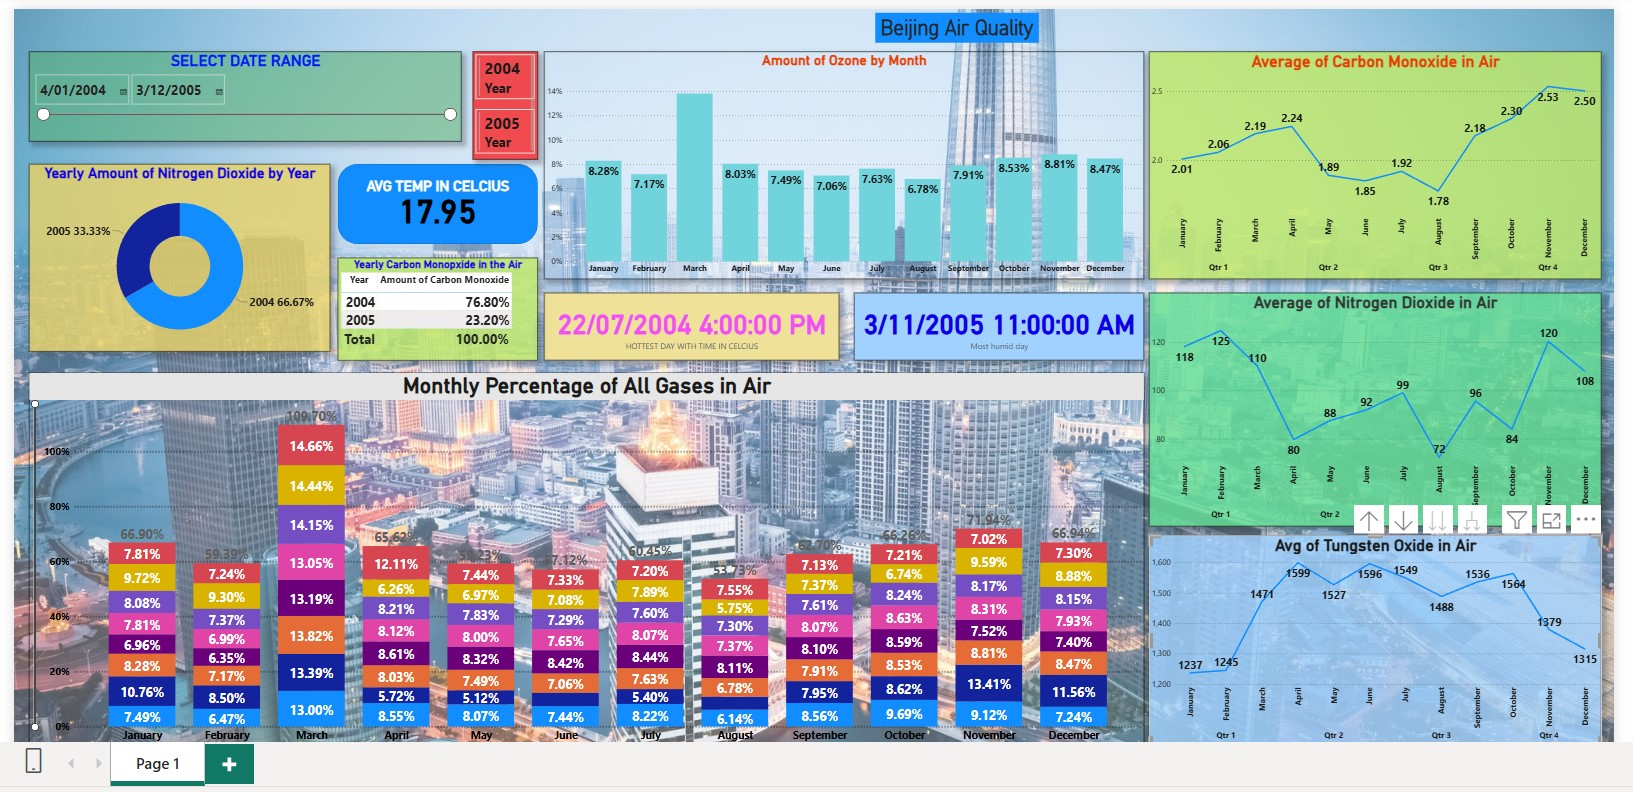

The dashboard page shown, as its layout file describes it:
{"tool":"powerbi","page":{"name":"Page 1","canvas":[3200,1500],"ordinal":0},"visuals":[{"type":"slicer","title":"SELECT DATE RANGE","fields":{"Values":["AirQualityUCI.Date and Time"]},"box":[30,85,865,180],"z":0},{"type":"card","fields":{"Values":["AirQualityUCI.Most humid day"]},"box":[1680,567.5,580,135],"z":1000},{"type":"card","fields":{"Values":["AirQualityUCI.Hottest day with time in celcius"]},"box":[1060,567.5,590,135],"z":2000},{"type":"shape","box":[647.5,310,400,160],"z":3000},{"type":"card","title":"AVG TEMP IN CELCIUS","fields":{"Values":["AirQualityUCI.Avereage temp in celcius"]},"box":[690,337.5,315,105],"z":4000},{"type":"columnChart","title":"Monthly Percentage of All Gases in Air","fields":{"Category":["AirQualityUCI.Date and Time.Variation.Date Hierarchy.Month"],"Y":["Sum(AirQualityUCI.C6H6(GT)/benjin)","Sum(AirQualityUCI.NOx(GT)/Nitrus Oxide)","Sum(AirQualityUCI.PT08.S5(O3)/Ozone)","Sum(AirQualityUCI.PT08.S4(NO2)/tungsten oxide)","Sum(AirQualityUCI.PT08.S2(NMHC)/Indium oxide)","Sum(AirQualityUCI.PT08.S1(CO) tin oxide)","Sum(AirQualityUCI.NO2(GT)/Nitrigen dy oxide)","Sum(AirQualityUCI.NMHC(GT)/Non Mithen hydro carbon)"]},"box":[30,727.5,2230,750],"z":5000},{"type":"tableEx","title":"Yearly Carbon Monopxide in the Air","fields":{"Values":["AirQualityUCI.Date and Time.Variation.Date Hierarchy.Year","Sum(AirQualityUCI.CO(GT)/Carbon Monoxide)"]},"box":[647.1,497.1,400,205.7],"z":6000},{"type":"donutChart","fields":{"Category":["AirQualityUCI.Date and Time.Variation.Date Hierarchy.Year"],"Y":["Sum(AirQualityUCI.NO2(GT)/Nitrigen dy oxide)"]},"box":[30,310,602.5,375],"z":7000},{"type":"clusteredColumnChart","title":"Amount of Ozone by Month","fields":{"Category":["AirQualityUCI.Date and Time.Variation.Date Hierarchy.Month"],"Y":["Sum(AirQualityUCI.PT08.S5(O3)/Ozone)"]},"box":[1060,85,1200,455],"z":8000},{"type":"multiRowCard","fields":{"Values":["AirQualityUCI.Date and Time.Variation.Date Hierarchy.Year"]},"box":[917.1,84.3,130,215.7],"z":9000},{"type":"lineChart","title":"Average of Carbon Monoxide in Air","fields":{"Category":["AirQualityUCI.Date and Time.Variation.Date Hierarchy.Quarter","AirQualityUCI.Date and Time.Variation.Date Hierarchy.Month","AirQualityUCI.Date and Time.Variation.Date Hierarchy.Day"],"Y":["Avg(AirQualityUCI.CO(GT)/Carbon Monoxide)"]},"box":[2270,85,905,455],"z":10000},{"type":"lineChart","title":"Average of Nitrogen Dioxide in Air","fields":{"Y":["Avg(AirQualityUCI.NO2(GT)/Nitrigen dy oxide)"],"Category":["AirQualityUCI.Date and Time.Variation.Date Hierarchy.Quarter","AirQualityUCI.Date and Time.Variation.Date Hierarchy.Month"]},"box":[2270,567.5,905,467.5],"z":11000},{"type":"lineChart","title":"Avg of Tungsten Oxide in Air ","fields":{"Y":["Avg(AirQualityUCI.PT08.S4(NO2)/tungsten oxide)"],"Category":["AirQualityUCI.Date and Time.Variation.Date Hierarchy.Quarter","AirQualityUCI.Date and Time.Variation.Date Hierarchy.Month"]},"box":[2270,1053.3,905,425],"z":12000},{"type":"textbox","box":[1722.5,7.5,327.5,60],"z":13000}]}

Visuals, with their boxes in screenshot pixels (x1, y1, x2, y2):
"SELECT DATE RANGE" slicer: {"x1": 19, "y1": 39, "x2": 455, "y2": 129}
card - AirQualityUCI.Most humid day: {"x1": 850, "y1": 281, "x2": 1142, "y2": 349}
card - AirQualityUCI.Hottest day with time in celcius: {"x1": 538, "y1": 281, "x2": 835, "y2": 349}
shape: {"x1": 330, "y1": 152, "x2": 531, "y2": 232}
"AVG TEMP IN CELCIUS" card: {"x1": 351, "y1": 166, "x2": 510, "y2": 218}
"Monthly Percentage of All Gases in Air" columnChart: {"x1": 19, "y1": 362, "x2": 1142, "y2": 739}
"Yearly Carbon Monopxide in the Air" tableEx: {"x1": 330, "y1": 246, "x2": 531, "y2": 349}
donutChart - AirQualityUCI.Date and Time.Variation.Date Hierarchy.Year x Sum(AirQualityUCI.NO2(GT)/Nitrigen dy oxide): {"x1": 19, "y1": 152, "x2": 323, "y2": 340}
"Amount of Ozone by Month" clusteredColumnChart: {"x1": 538, "y1": 39, "x2": 1142, "y2": 268}
multiRowCard - AirQualityUCI.Date and Time.Variation.Date Hierarchy.Year: {"x1": 466, "y1": 38, "x2": 531, "y2": 147}
"Average of Carbon Monoxide in Air" lineChart: {"x1": 1147, "y1": 39, "x2": 1602, "y2": 268}
"Average of Nitrogen Dioxide in Air" lineChart: {"x1": 1147, "y1": 281, "x2": 1602, "y2": 517}
"Avg of Tungsten Oxide in Air " lineChart: {"x1": 1147, "y1": 526, "x2": 1602, "y2": 740}
textbox: {"x1": 871, "y1": 0, "x2": 1036, "y2": 30}
